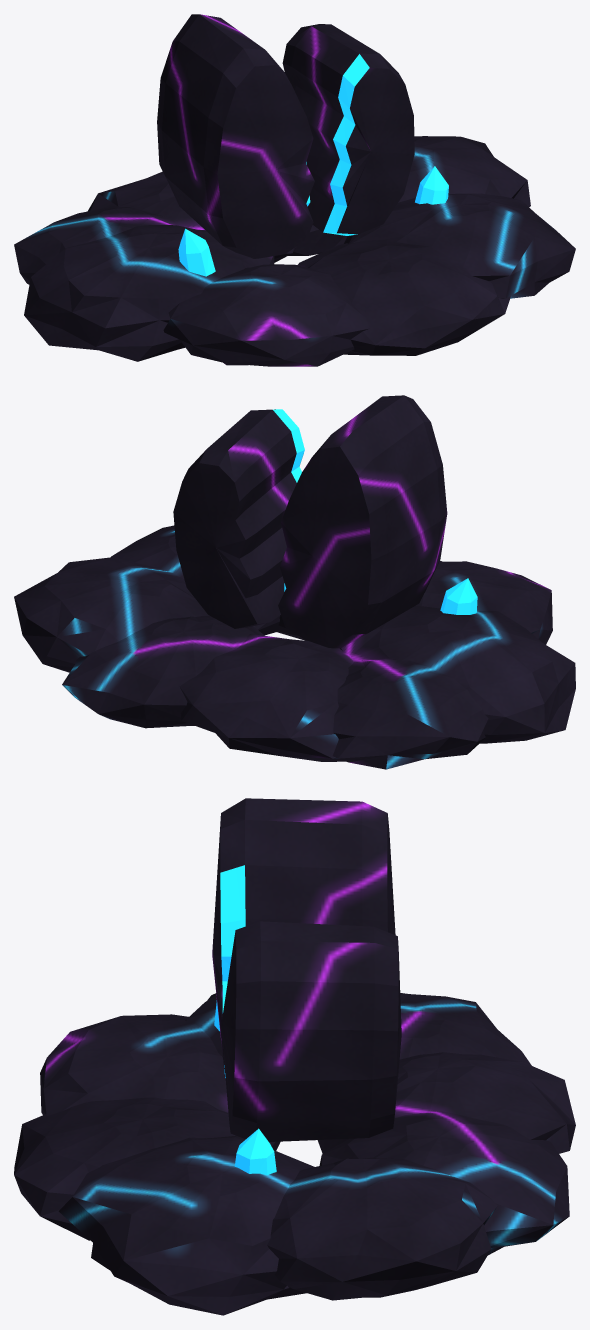
File: AnomalousDeposit.fbx
The picture shows the model from 3 angles, top to bottom: view 1: azimuth 30°, elevation 25°; view 2: azimuth 150°, elevation 25°; view 3: azimuth 270°, elevation 25°; orthographic projection. The views are drawn at different scales.
Visible parts, largest first — view 1: Anomalous_Deposit_A_LOD0; view 2: Anomalous_Deposit_A_LOD0; view 3: Anomalous_Deposit_A_LOD0.
Part boxes in pixels (box(x1,y1,x2,y2)): Anomalous_Deposit_A_LOD0: box(14, 14, 575, 366); Anomalous_Deposit_A_LOD0: box(14, 395, 575, 769); Anomalous_Deposit_A_LOD0: box(14, 798, 575, 1315).
Size of the model in its own units: 39313 by 21042 by 31517.
